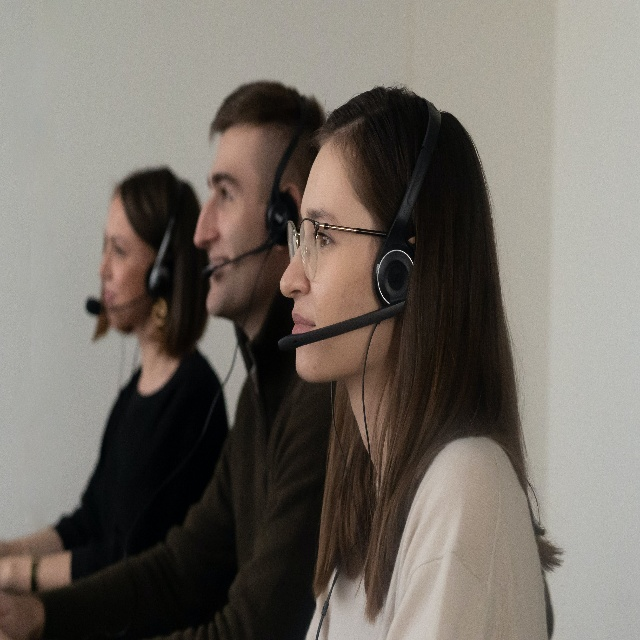Gafas: (285, 217, 388, 285)
